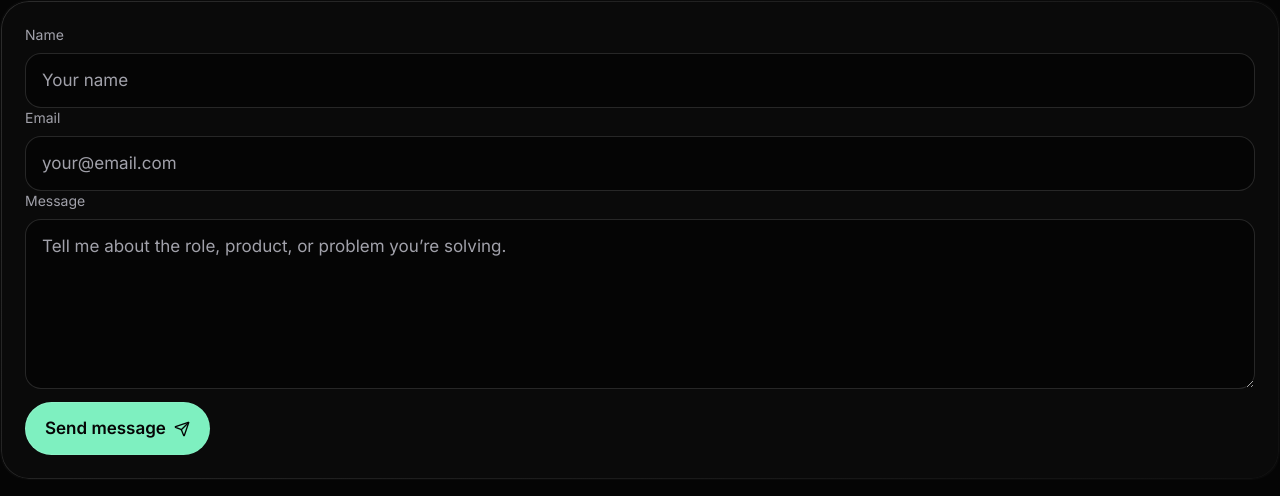
Contact › disables the submit button while the contact request is pending
Later steps or results of the test are not shown.
Type "Manav Shaji" into the field labelled "Name" at (640, 80), box [25,53,1255,108]
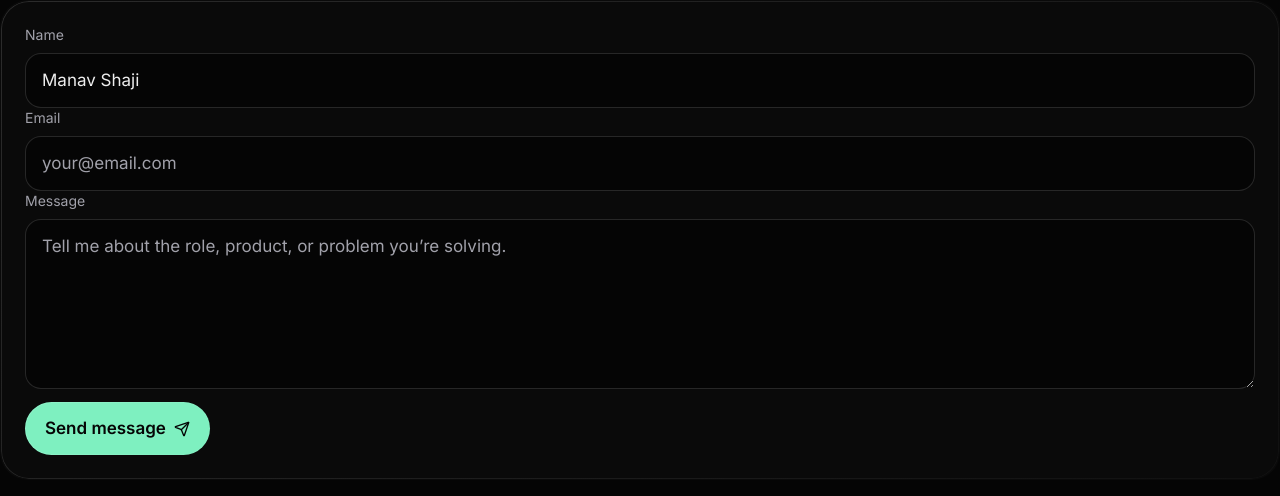
Type "manav@example.com" into the field labelled "Email" at (640, 163), box [25,136,1255,191]
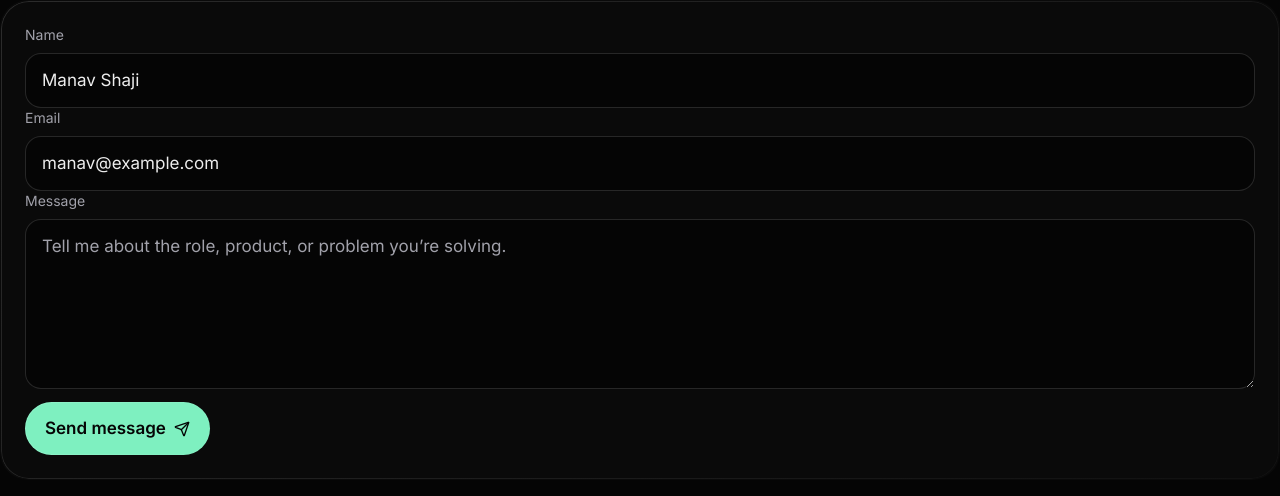
Type "I would like to discuss a role." into the text box labelled "Message" at (640, 304), box [25,219,1255,389]
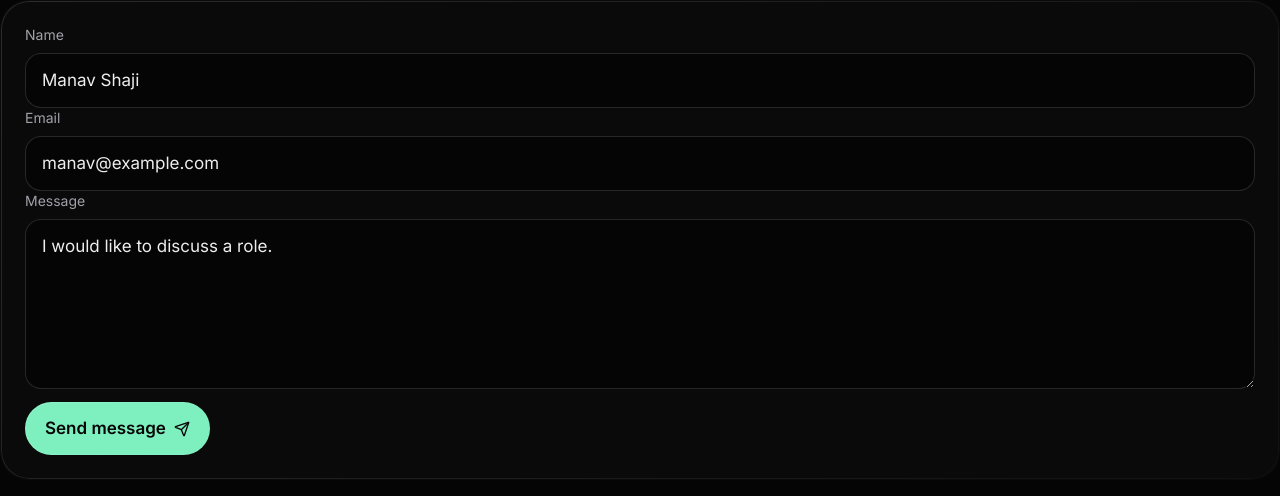
Click the button "Send message" at (117, 429), box [25,402,210,455]
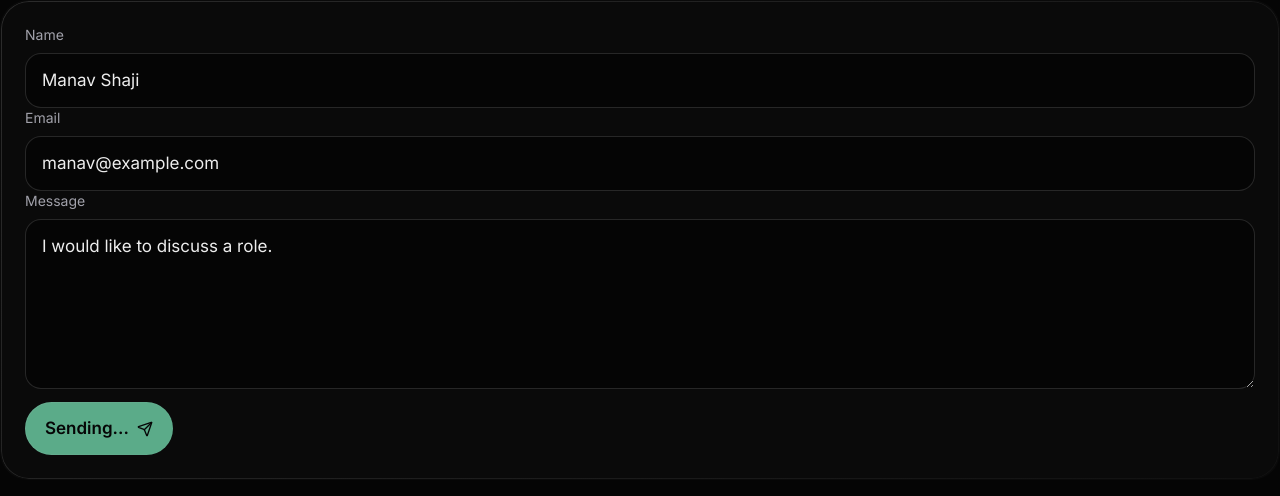
Expected: the button "Sending..." is disabled, [25,402,173,455]
